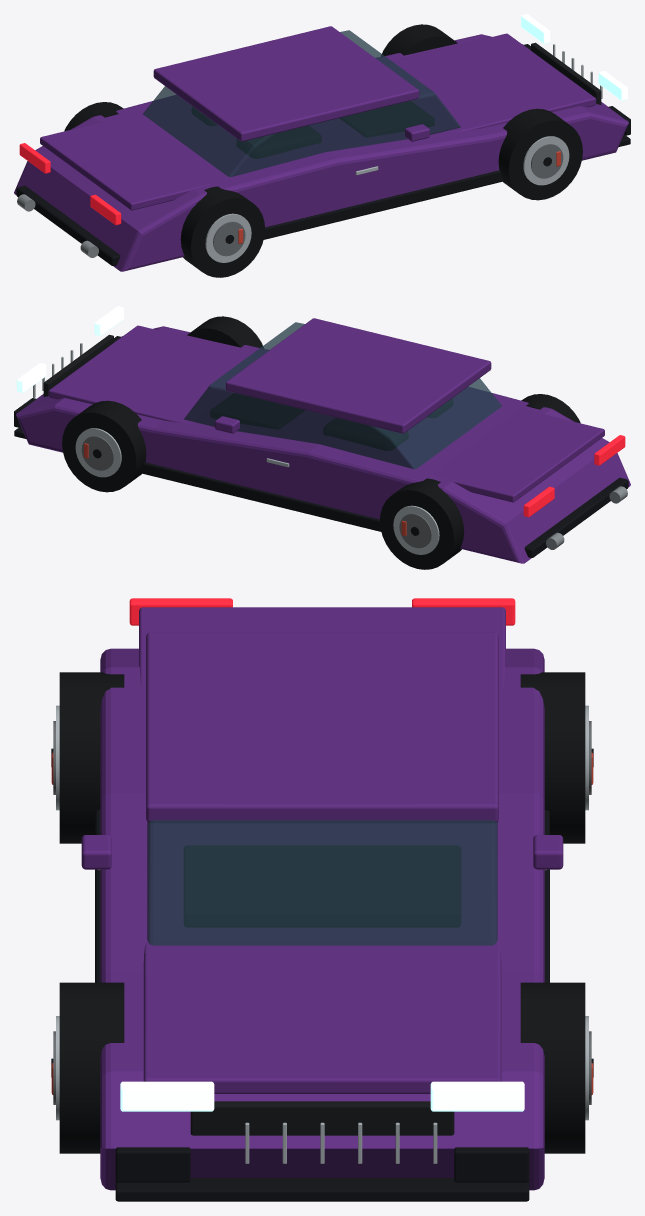
Rendered from lambo_revuelto.glb.
3 renders of one model, top to bottom at view 1: azimuth 30°, elevation 25°; view 2: azimuth 150°, elevation 25°; view 3: azimuth 270°, elevation 25°, orthographic. The views are drawn at different scales.
Visible parts, largest first — view 1: sculpted_body, roof, hood_center, glasshouse, rear_deck, front_right_wheel_tire, rear_right_wheel_tire, side_skirt_1, dashboard, rear_diffuser, seat_1, front_left_wheel_tire (+10 smaller); view 2: sculpted_body, roof, hood_center, glasshouse, rear_deck, front_left_wheel_tire, rear_left_wheel_tire, side_skirt_-1, dashboard, rear_diffuser, seat_-1, front_right_wheel_tire (+10 smaller); view 3: sculpted_body, roof, hood_center, glasshouse, dashboard, rear_deck, front_splitter, front_left_wheel_tire, front_right_wheel_tire, front_grille, rear_left_wheel_tire, rear_right_wheel_tire (+10 smaller).
Boxes of the visible parts, bbox=[...] form: sculpted_body: bbox=[14, 34, 628, 271]; roof: bbox=[153, 26, 419, 141]; hood_center: bbox=[384, 33, 596, 131]; glasshouse: bbox=[143, 30, 460, 177]; rear_deck: bbox=[40, 117, 213, 210]; front_right_wheel_tire: bbox=[498, 108, 582, 200]; rear_right_wheel_tire: bbox=[180, 186, 264, 277]; side_skirt_1: bbox=[263, 170, 504, 239]; dashboard: bbox=[340, 101, 433, 136]; rear_diffuser: bbox=[16, 185, 120, 265]; seat_1: bbox=[237, 126, 320, 158]; front_left_wheel_tire: bbox=[381, 24, 457, 56]; sculpted_body: bbox=[16, 326, 630, 563]; roof: bbox=[225, 318, 491, 433]; hood_center: bbox=[48, 325, 260, 423]; glasshouse: bbox=[184, 322, 501, 469]; rear_deck: bbox=[431, 409, 604, 502]; front_left_wheel_tire: bbox=[62, 400, 146, 492]; rear_left_wheel_tire: bbox=[380, 478, 464, 569]; side_skirt_-1: bbox=[140, 462, 381, 531]; dashboard: bbox=[211, 393, 304, 428]; rear_diffuser: bbox=[524, 477, 628, 557]; seat_-1: bbox=[324, 418, 407, 450]; front_right_wheel_tire: bbox=[187, 316, 263, 348]; sculpted_body: bbox=[100, 648, 544, 1190]; roof: bbox=[146, 632, 498, 822]; hood_center: bbox=[143, 941, 501, 1093]; glasshouse: bbox=[147, 820, 497, 945]; dashboard: bbox=[184, 846, 460, 926]; rear_deck: bbox=[139, 607, 505, 687]; front_splitter: bbox=[115, 1178, 529, 1201]; front_left_wheel_tire: bbox=[520, 982, 585, 1153]; front_right_wheel_tire: bbox=[59, 982, 124, 1153]; front_grille: bbox=[190, 1101, 454, 1135]; rear_left_wheel_tire: bbox=[520, 672, 585, 843]; rear_right_wheel_tire: bbox=[59, 672, 124, 843].
Bounding box in the file's own units: 5.29 × 1.14 × 2.34.
